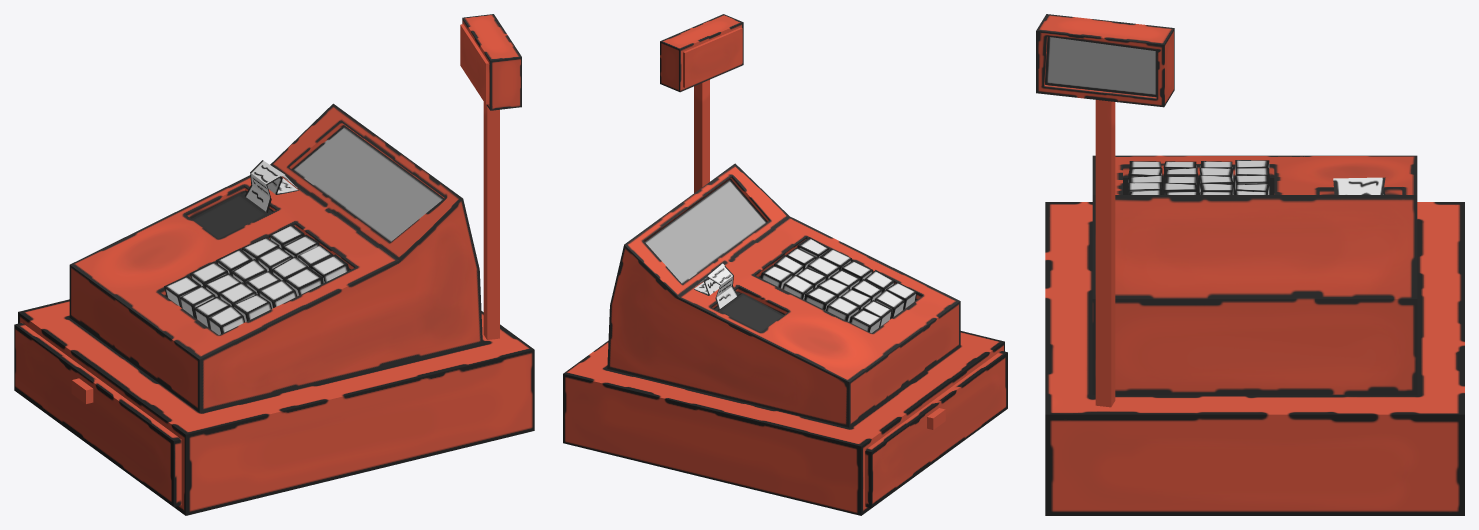
File: CashRegister.fbx
3 views of the same model, side by side, from view 1: azimuth 30°, elevation 25°; view 2: azimuth 150°, elevation 25°; view 3: azimuth 270°, elevation 25° (orthographic). The views are drawn at different scales.
Parts seen in each view (by area): view 1: CashRegister; view 2: CashRegister; view 3: CashRegister.
Part boxes in pixels (bbox=[...]): CashRegister: bbox=[14, 14, 534, 515]; CashRegister: bbox=[563, 14, 1007, 515]; CashRegister: bbox=[1036, 14, 1464, 515].
Size of the model in its own units: 47.82 by 46.88 by 38.33.
